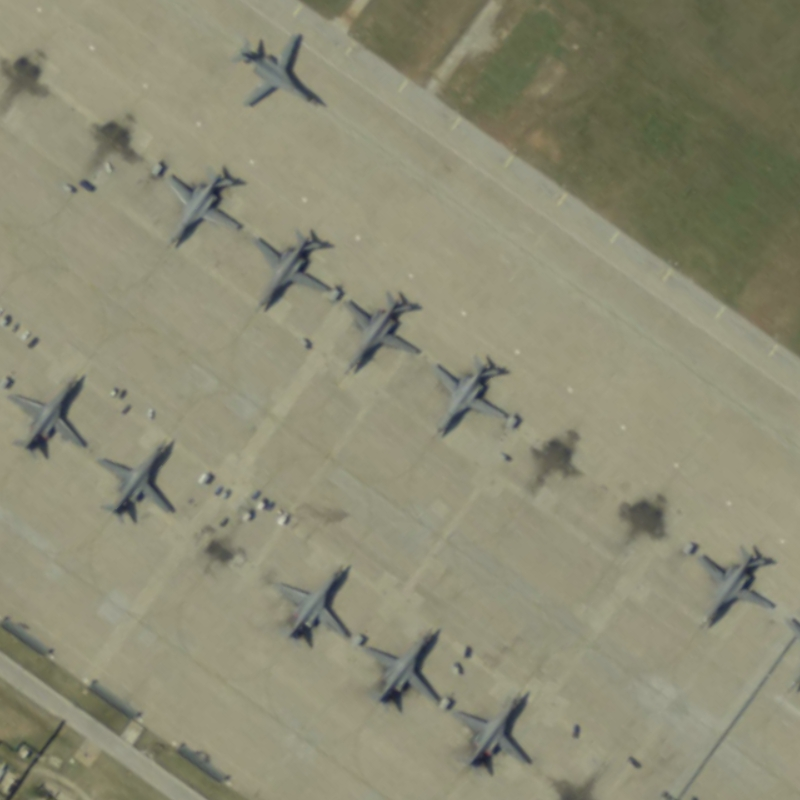A10: (353, 610, 447, 724), (225, 32, 336, 119), (448, 677, 539, 779), (265, 558, 357, 658), (337, 283, 430, 381), (97, 422, 182, 528), (155, 157, 253, 248), (247, 225, 340, 319), (6, 367, 97, 461), (424, 348, 517, 439), (692, 539, 779, 628)
